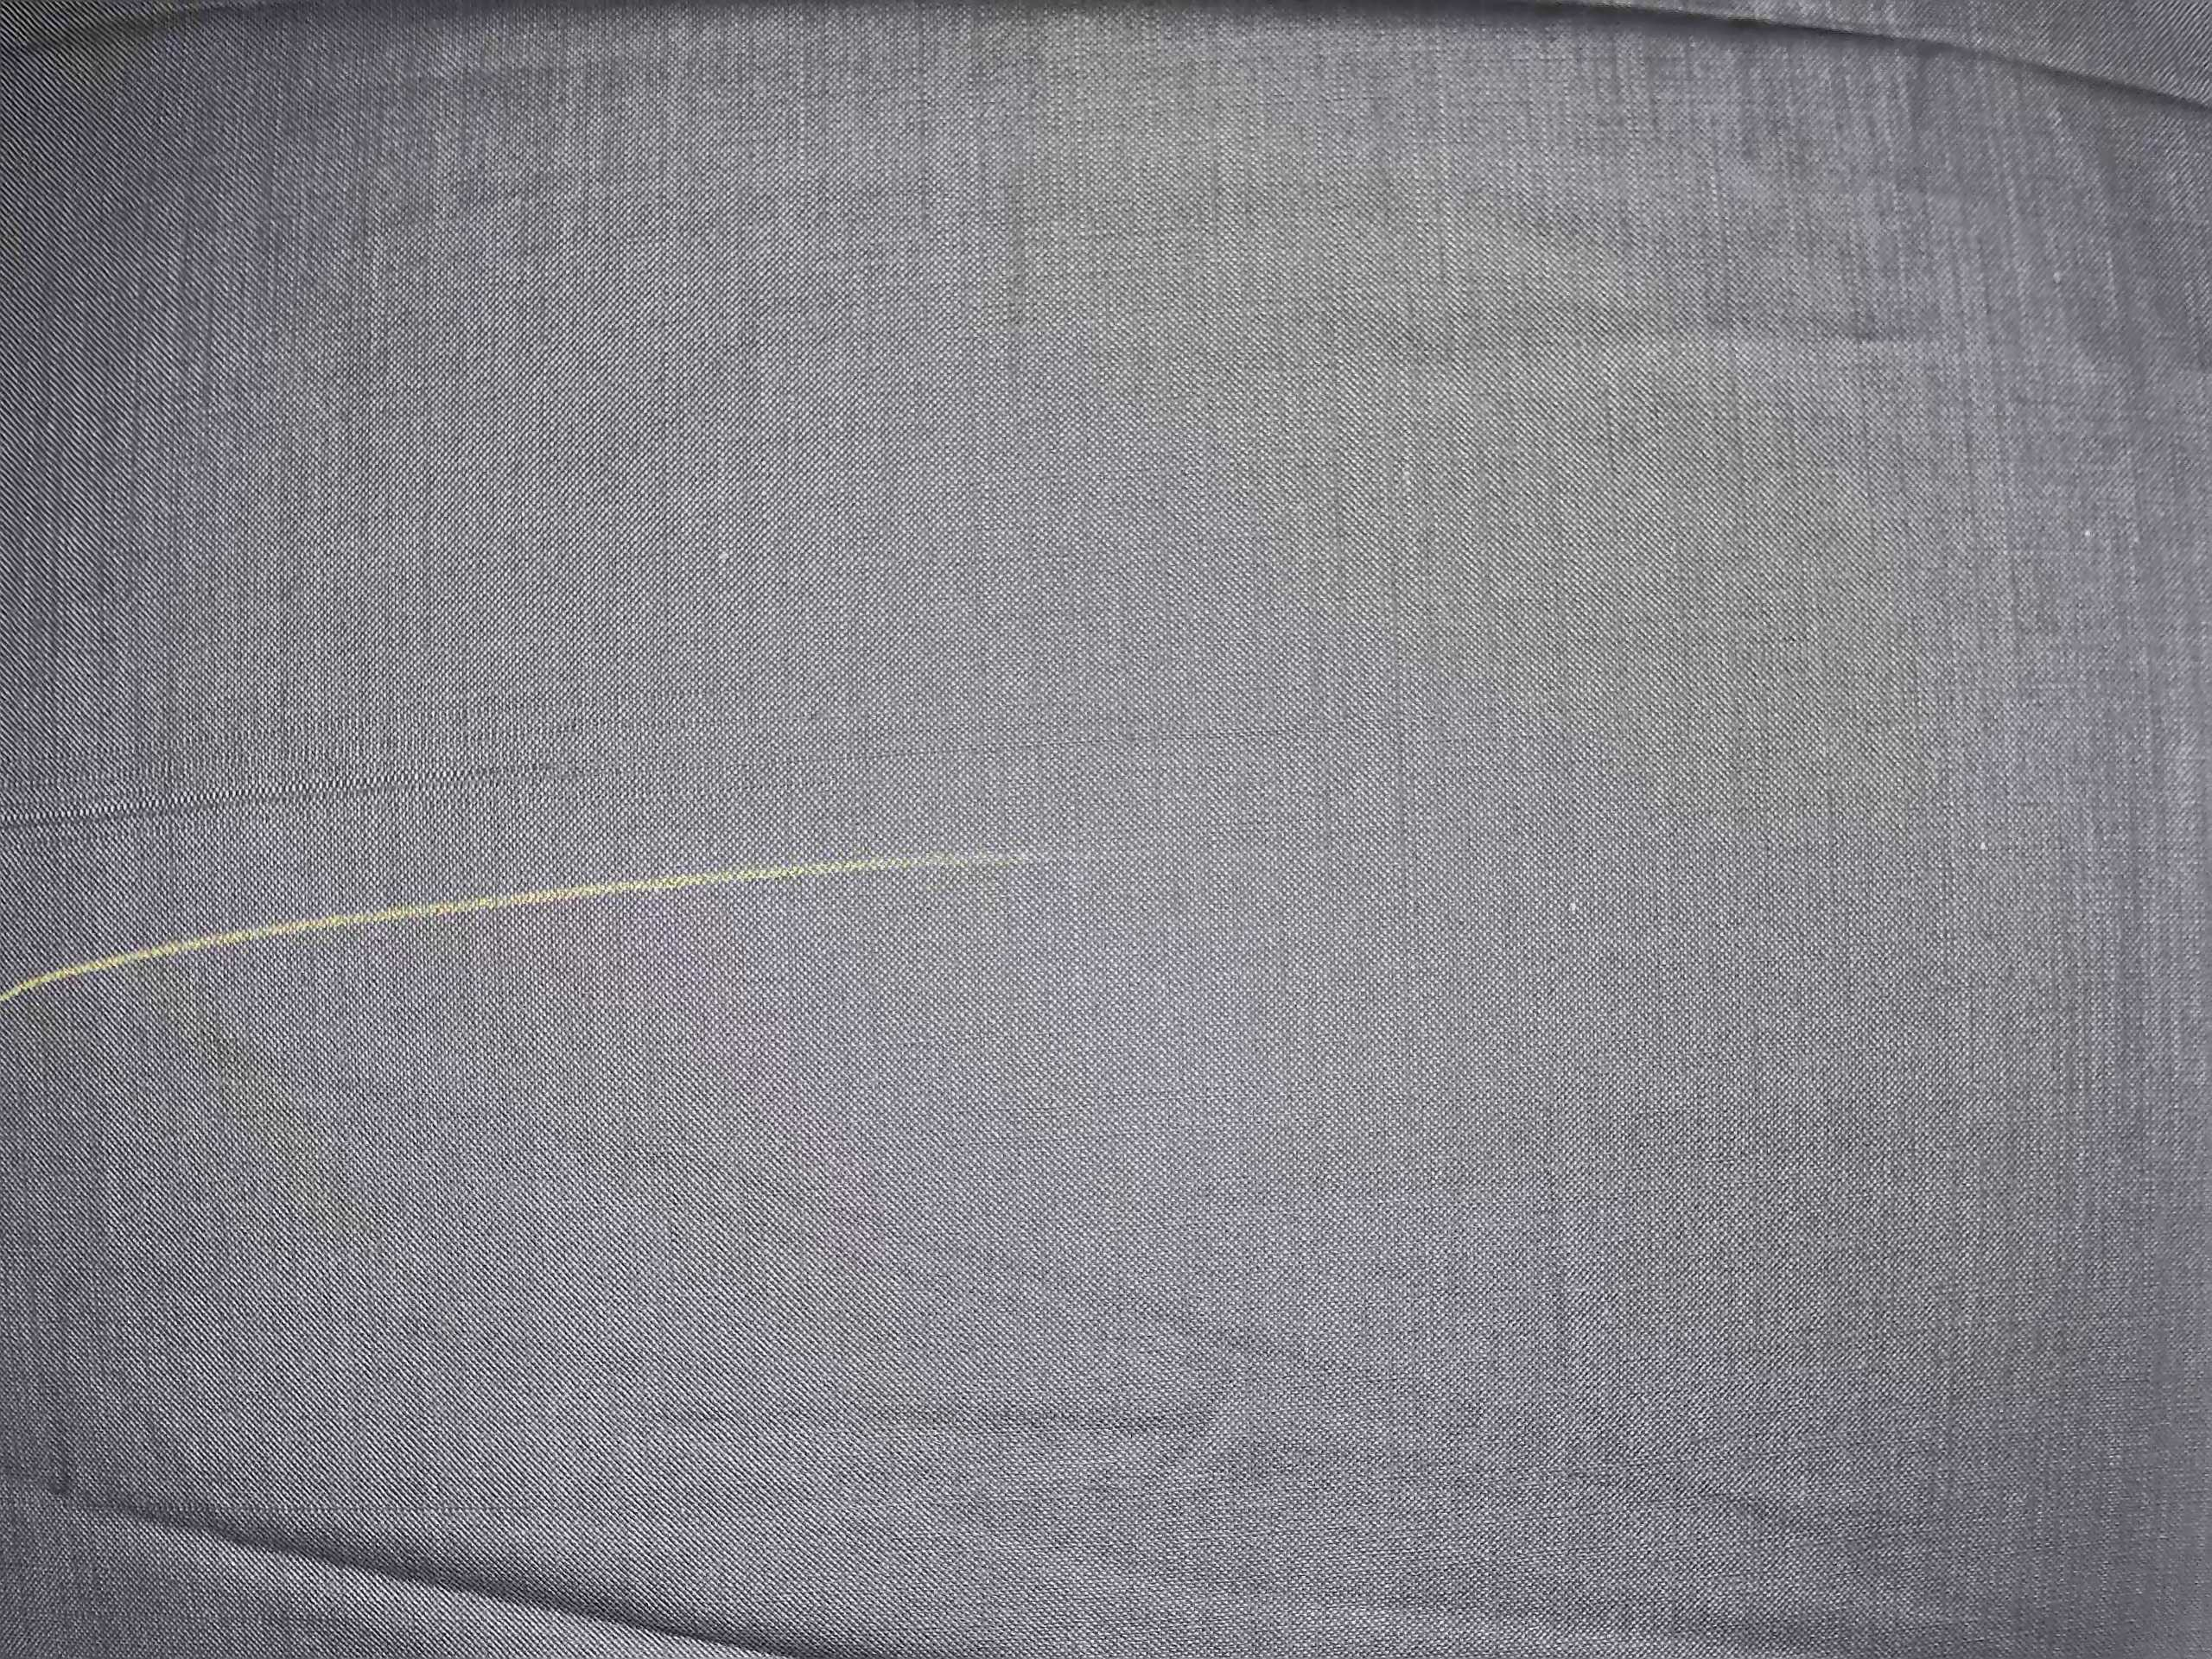others: (307, 678, 1444, 807)
